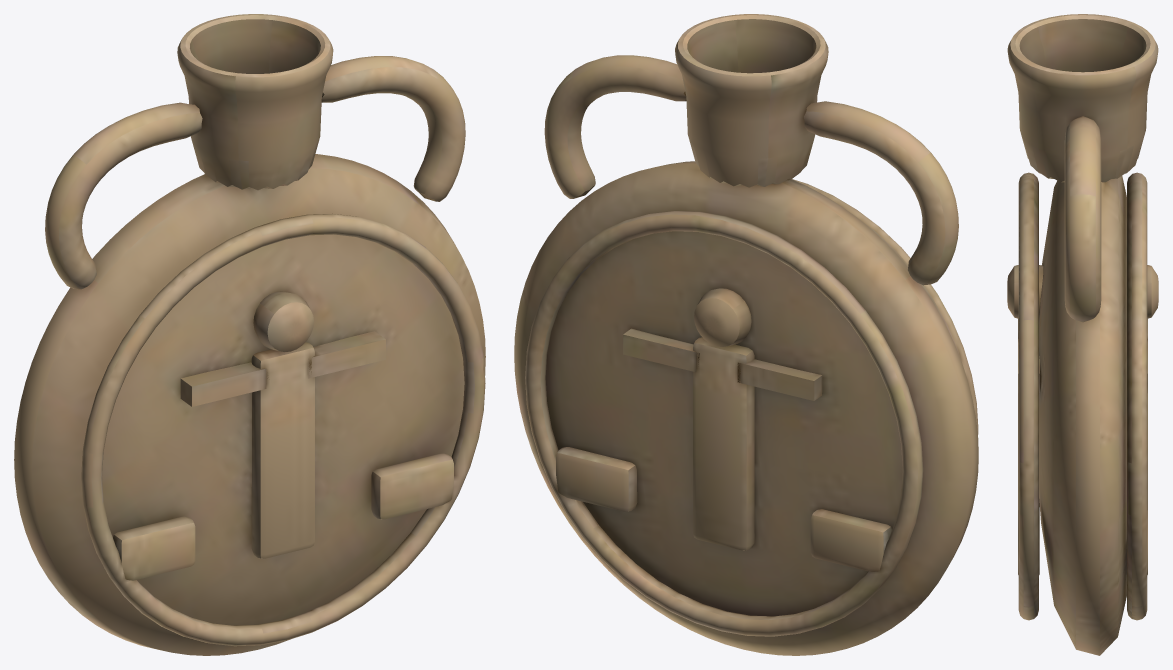
Rendered from menas_ampulla.glb.
3 views of the same model, side by side, from view 1: azimuth 30°, elevation 25°; view 2: azimuth 150°, elevation 25°; view 3: azimuth 270°, elevation 25° (orthographic). The views are drawn at different scales.
Visible parts, largest first — view 1: menas_ampulla; view 2: menas_ampulla; view 3: menas_ampulla.
Part boxes in pixels (<box>): menas_ampulla: <box>14,14,485,655</box>; menas_ampulla: <box>514,14,978,655</box>; menas_ampulla: <box>1007,14,1158,655</box>.
Bounding box in the file's own units: 0.0719 × 0.0899 × 0.021.
1 material, 1 textured.
